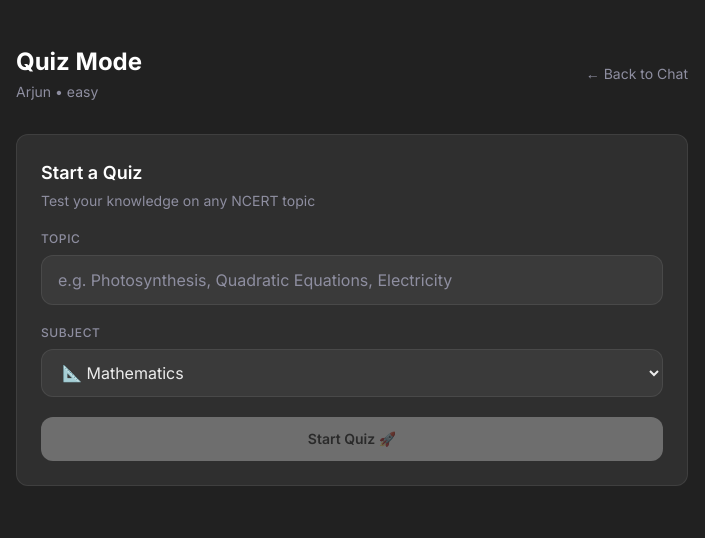
Test: QuizPage › shows error message when quiz generation fails
This screenshot has width=705, height=538.
Type "FailTopic" into the field labelled "Topic". click: (352, 280)
box: [41,255,663,305]
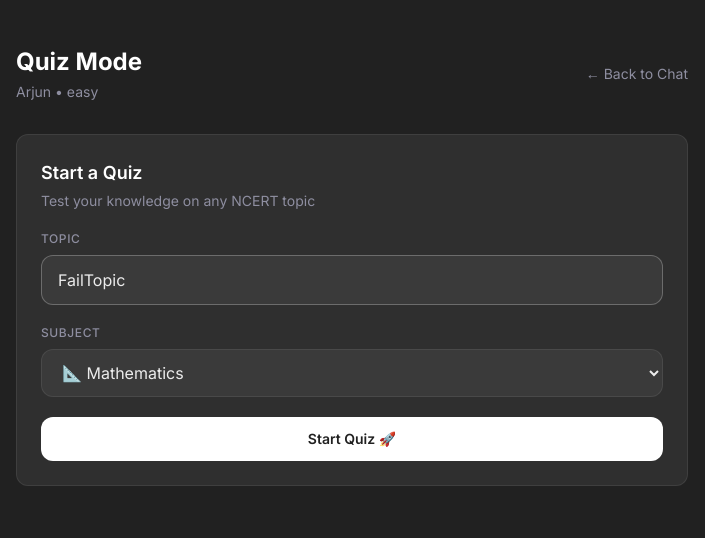
Click the button "Start Quiz 🚀". click: (352, 439)
box: [41,417,663,461]
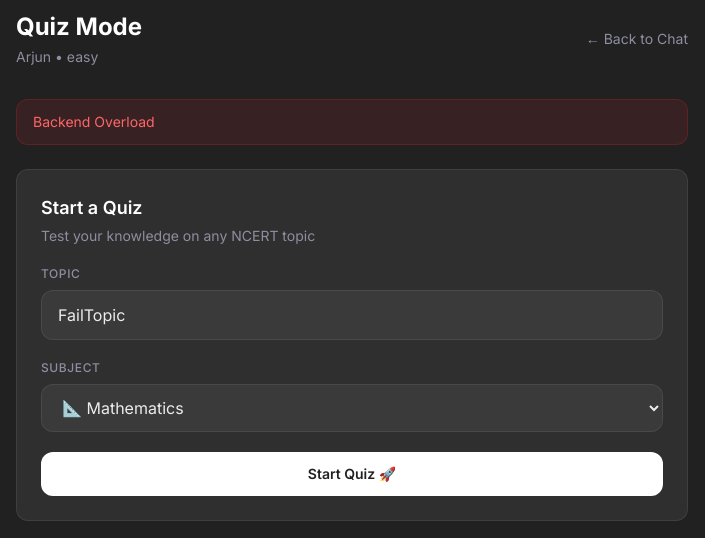
Expected: the text "Backend Overload" is shown, [16,99,688,145]
